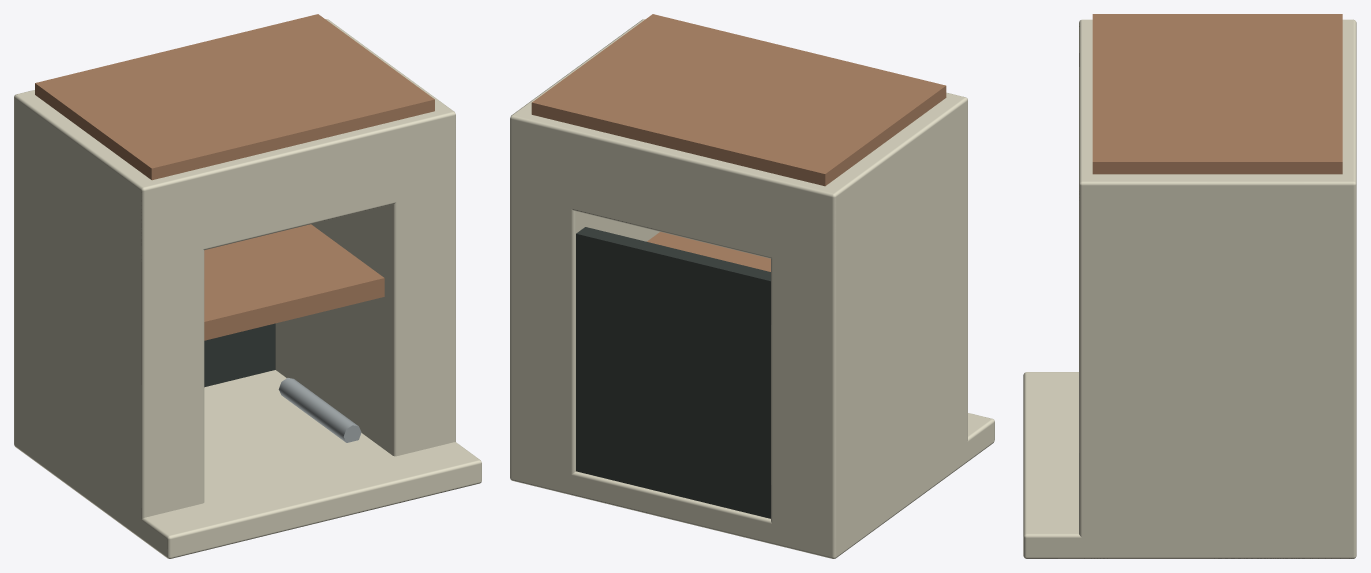
Rendered from rural-scavenging-settlements-bread-oven-24d0d327__26616.glb.
3 views of the same model, side by side, from view 1: azimuth 30°, elevation 25°; view 2: azimuth 150°, elevation 25°; view 3: azimuth 270°, elevation 25° (orthographic). The views are drawn at different scales.
Visible parts, largest first — view 1: bread-oven; view 2: bread-oven; view 3: bread-oven.
Boxes of the visible parts, x1,y1,x2,y2 form: bread-oven: (14, 14, 481, 558); bread-oven: (510, 14, 994, 558); bread-oven: (1023, 14, 1356, 558).
Size of the model in its own units: 1.4 by 1.55 by 1.2.
